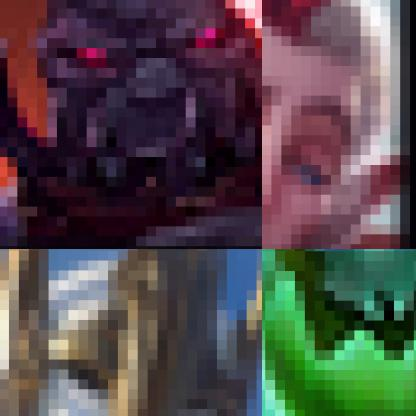Galio: (0, 249, 261, 415)
Rakan: (262, 0, 415, 248)
Sion: (0, 0, 261, 248)
Zac: (262, 249, 415, 415)
